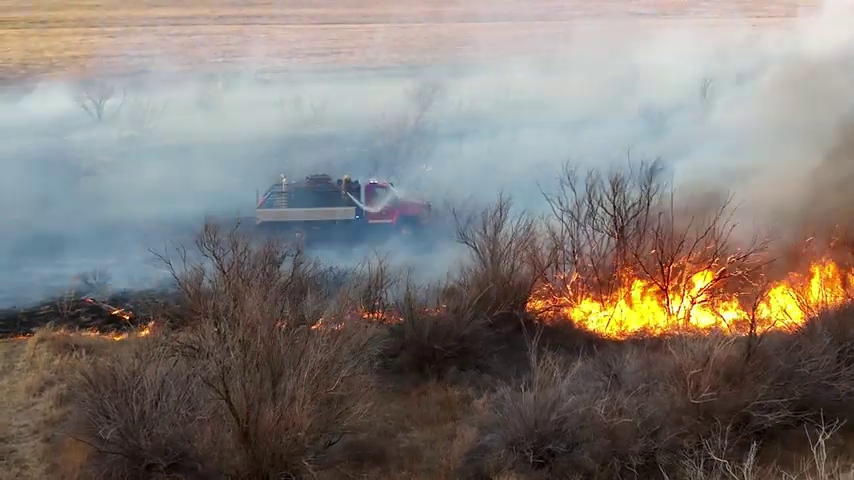forest_fire: (528, 258, 853, 338), (80, 321, 154, 340)
